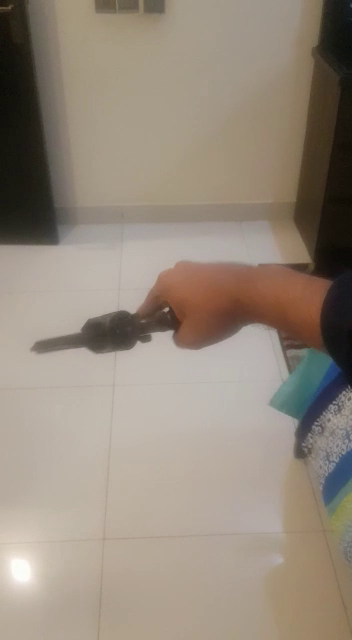handgun: (21, 307, 235, 356)
